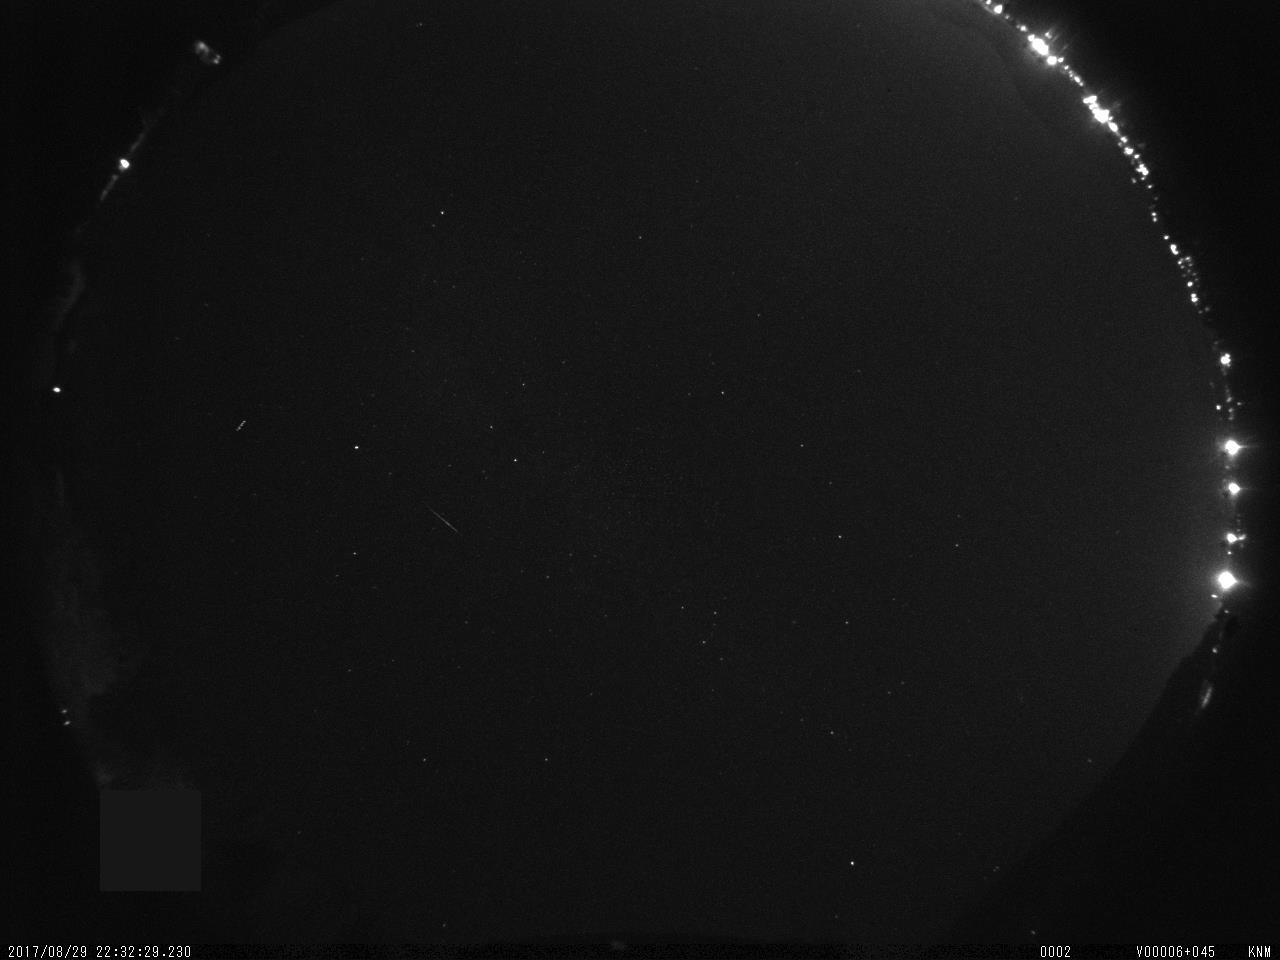meteor: (417, 500, 467, 542)
